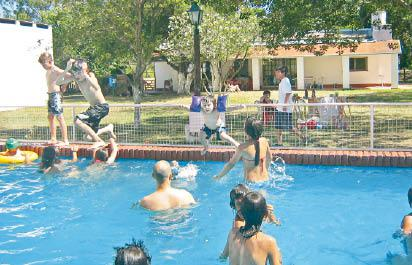human: (225, 182, 284, 264), (228, 116, 273, 184), (138, 158, 189, 210), (111, 236, 154, 264), (37, 144, 62, 170), (90, 144, 116, 164), (2, 136, 20, 158)
